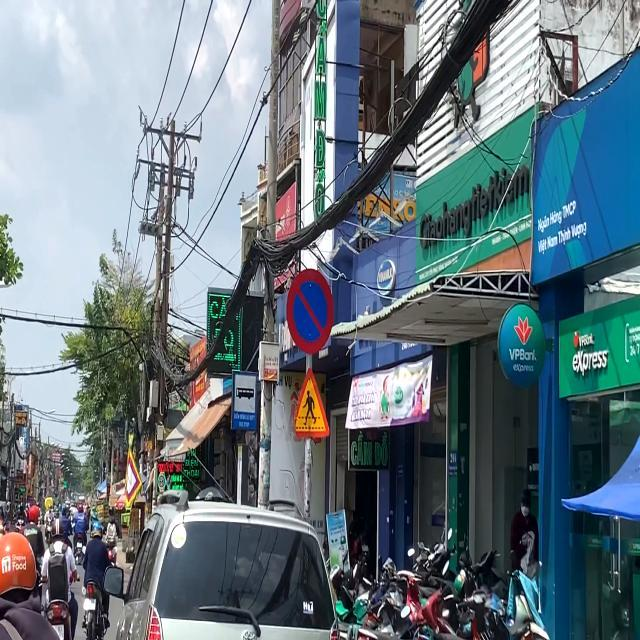P-131a: (286, 270, 333, 354)
W-224: (296, 369, 327, 438)
